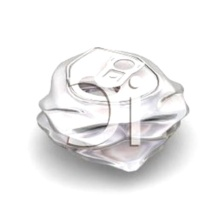can: (30, 41, 193, 180)
